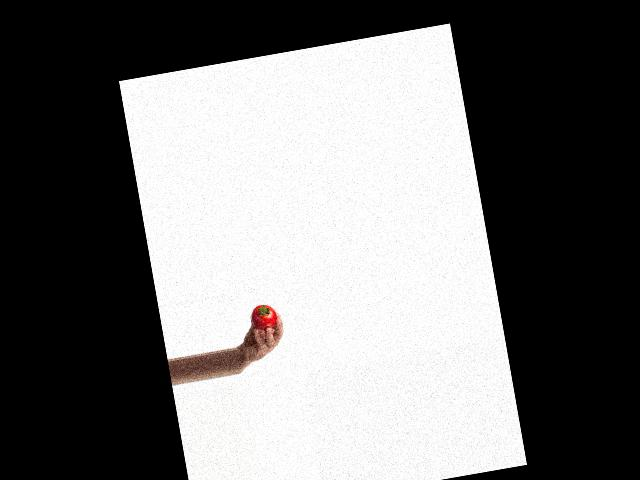tomato: (249, 302, 278, 331)
